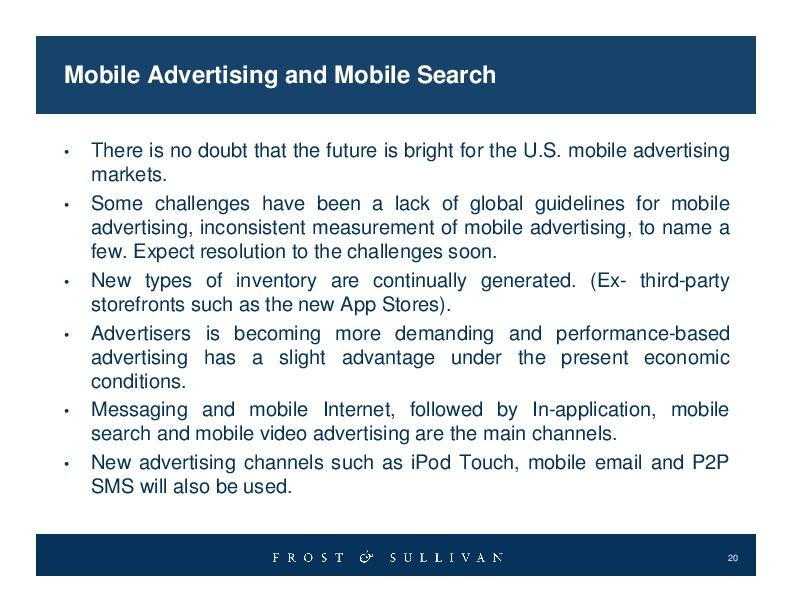paragraph: (53, 123, 761, 523)
title: (58, 51, 511, 102)
